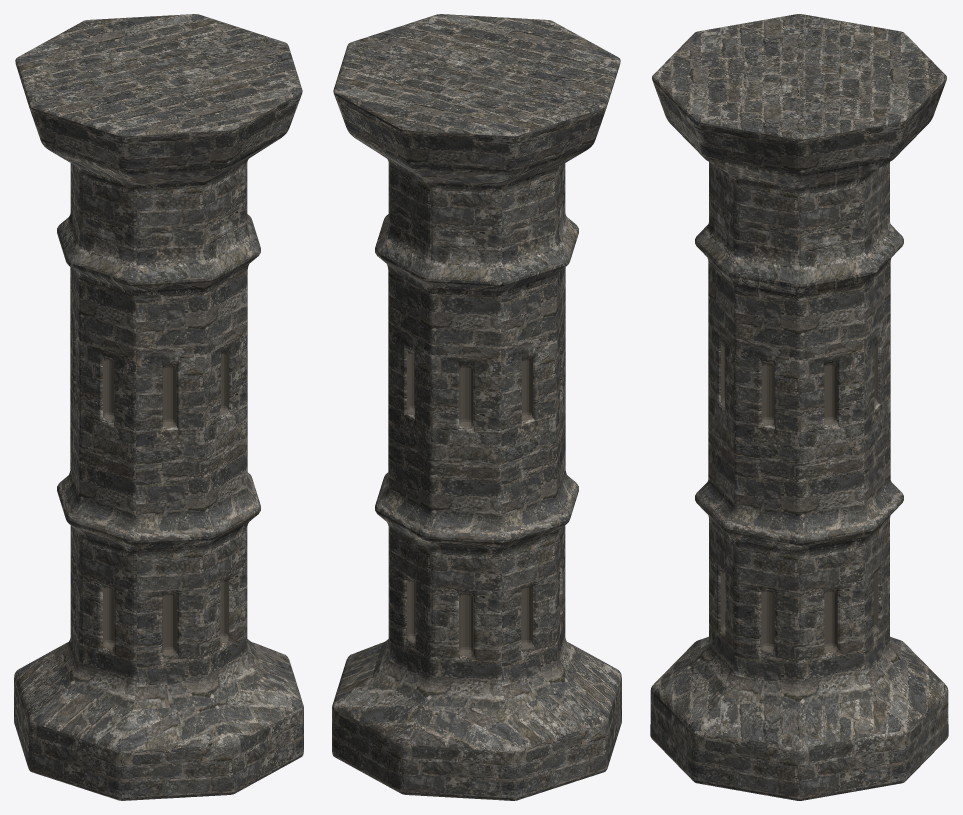
File: dwarven-pillar-v01.glb
The picture shows the model from 3 angles, left to right: view 1: azimuth 30°, elevation 25°; view 2: azimuth 150°, elevation 25°; view 3: azimuth 270°, elevation 25°; orthographic projection.
Visible parts, largest first — view 1: dwarven-pillar; view 2: dwarven-pillar; view 3: dwarven-pillar.
Part boxes in pixels (<box>): dwarven-pillar: <box>14,14,303,800</box>; dwarven-pillar: <box>332,14,621,800</box>; dwarven-pillar: <box>650,14,948,800</box>.
Size of the model in its own units: 1.79 by 4.4 by 1.79.
Materials: 1 (1 with a texture image).
